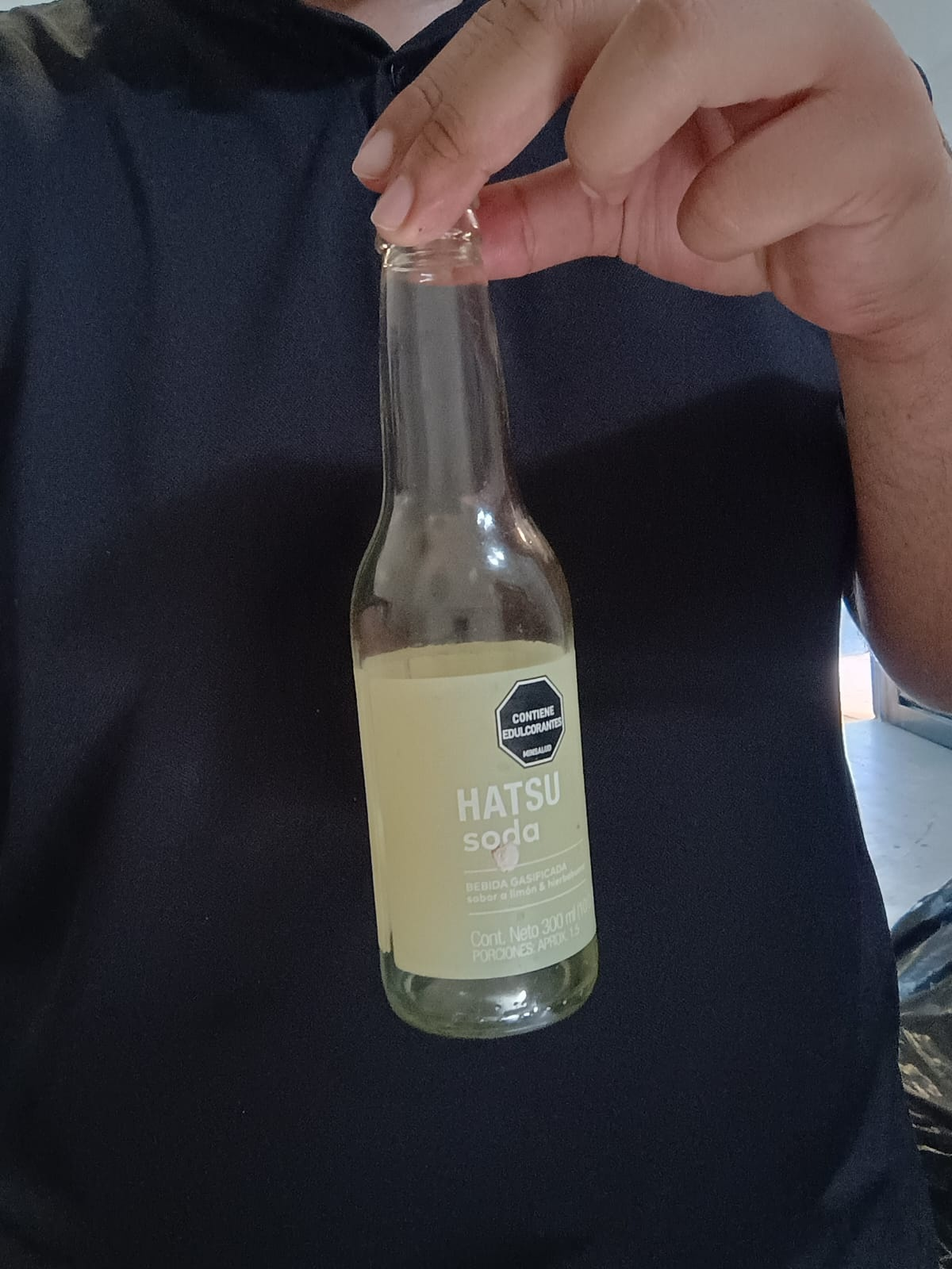Vidrio: (345, 188, 602, 1037)
